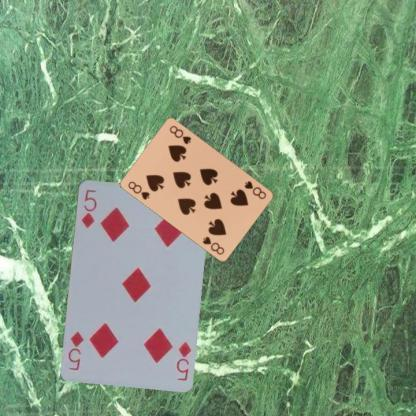5d: (78, 186, 98, 230), (174, 338, 192, 382)
8s: (126, 178, 152, 202), (243, 178, 268, 200)
